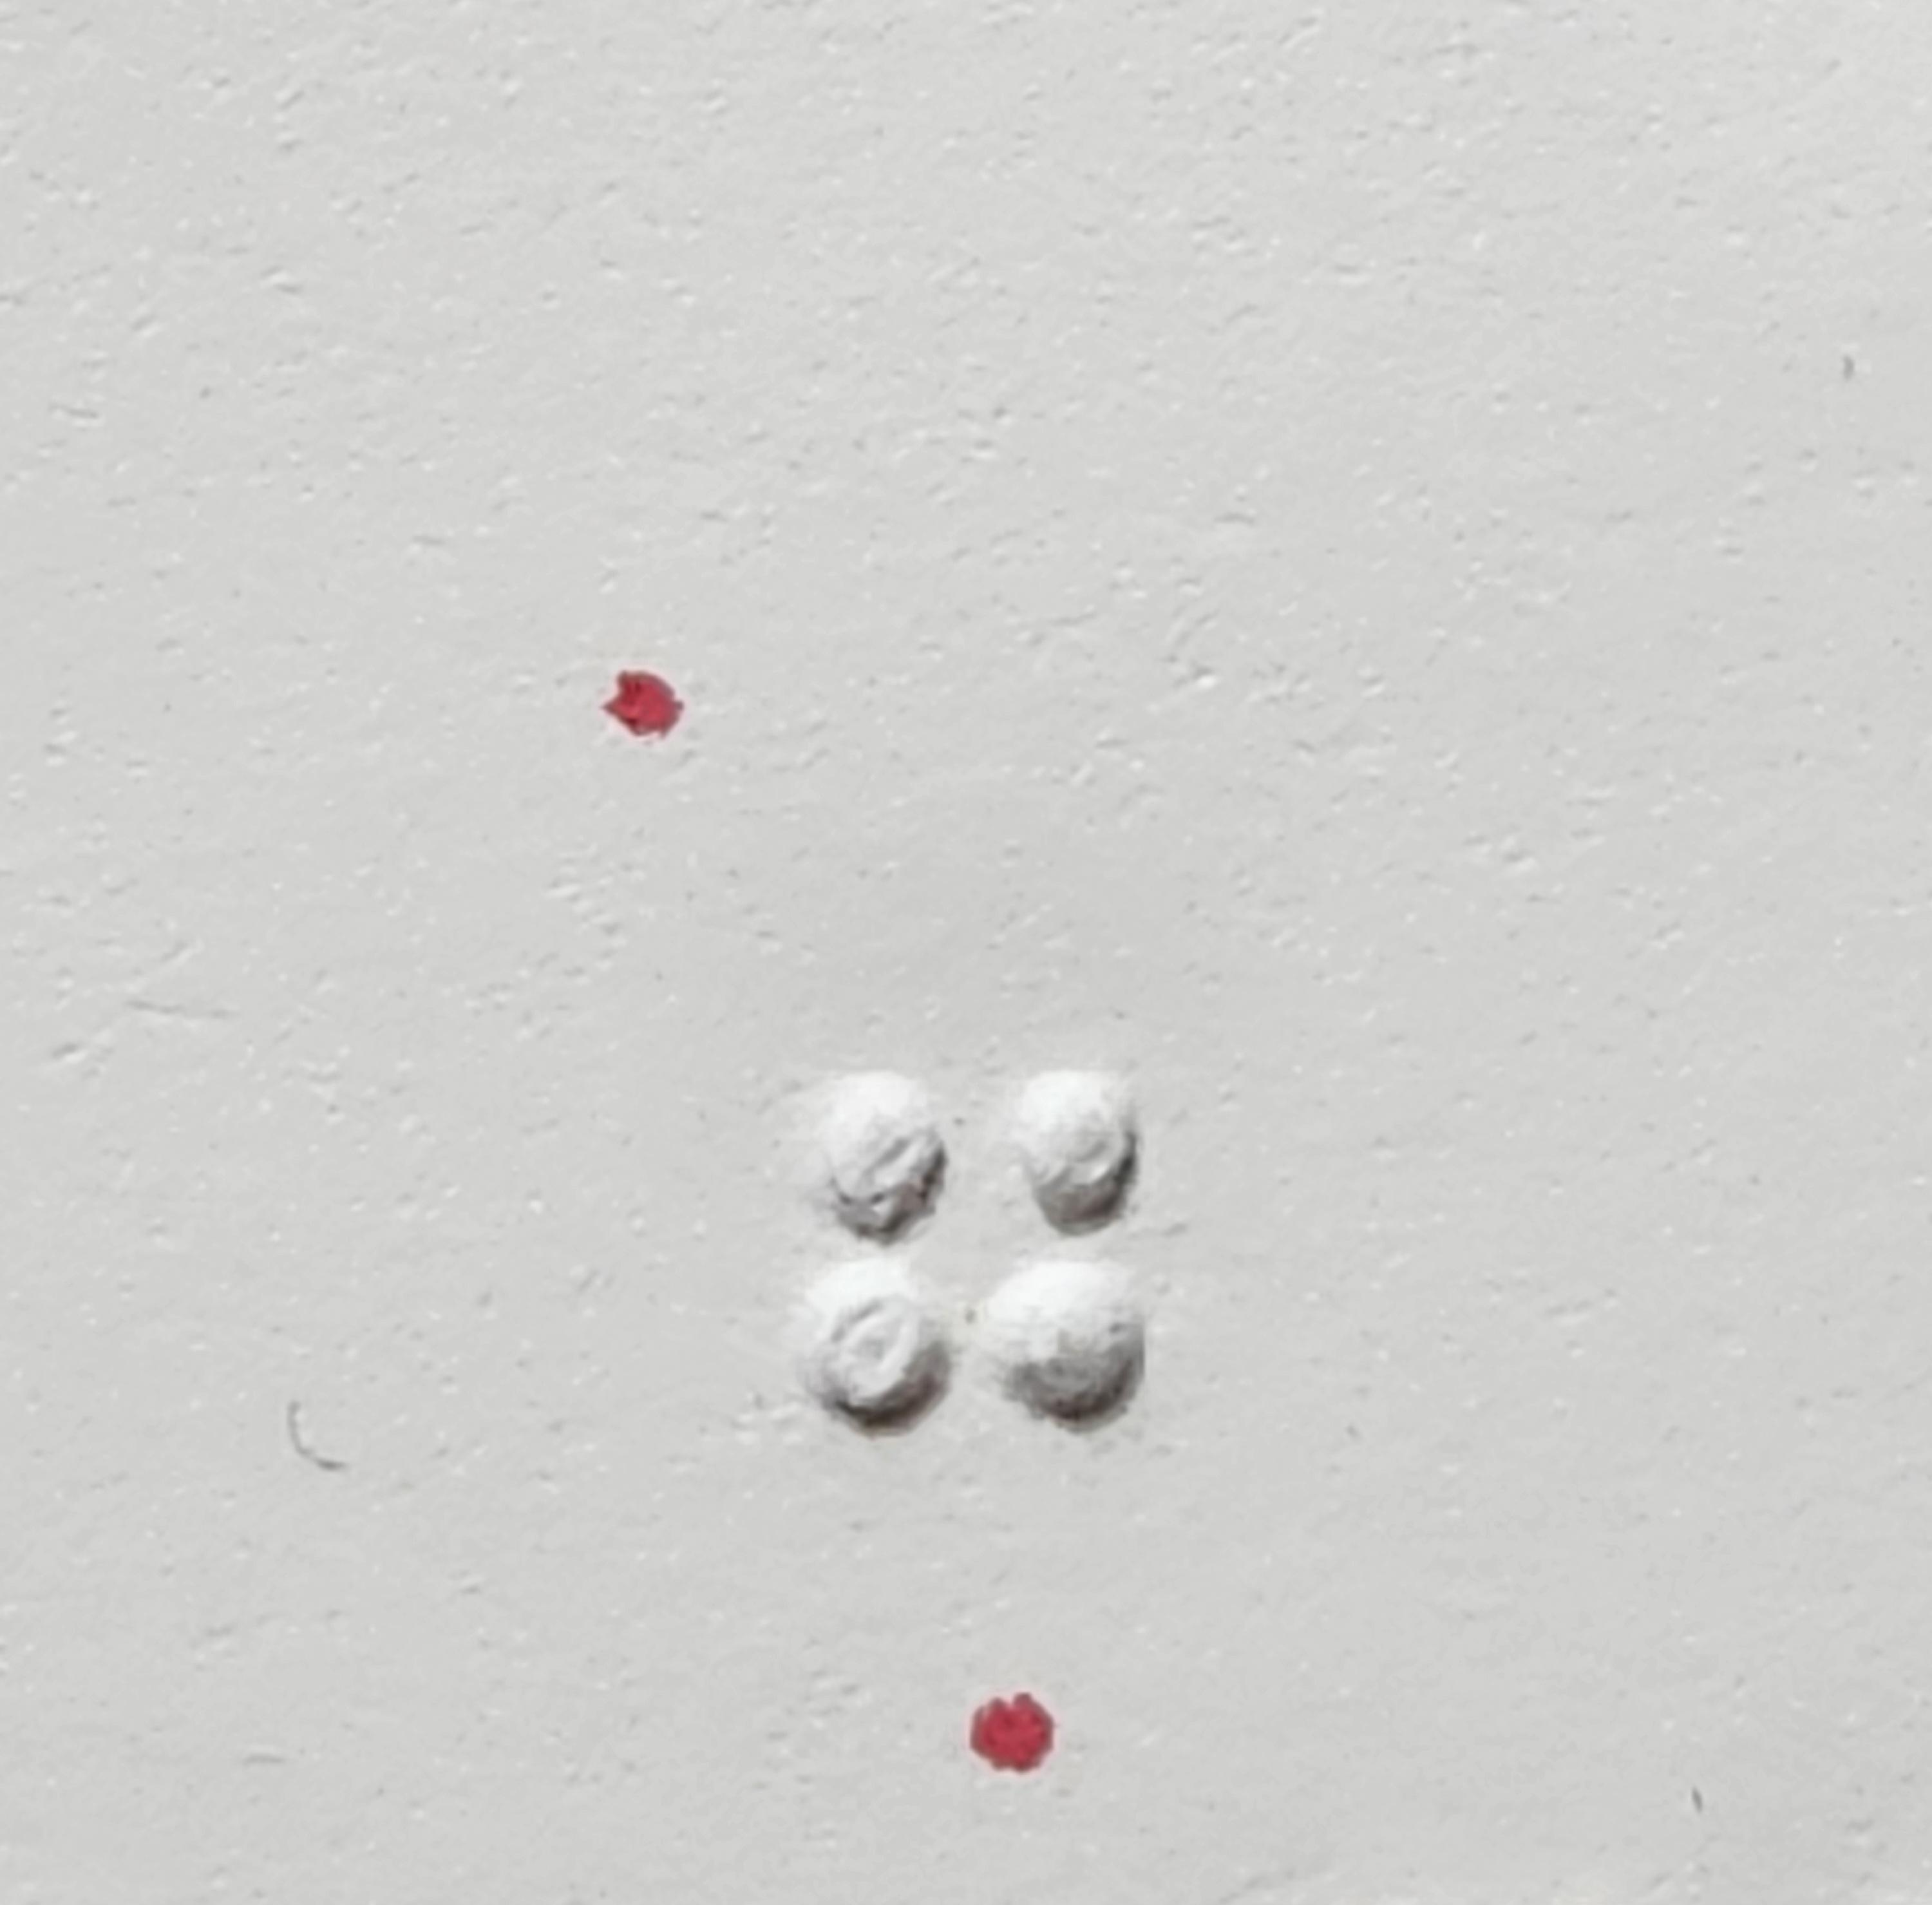letter_g: (806, 1057, 1160, 1663)
